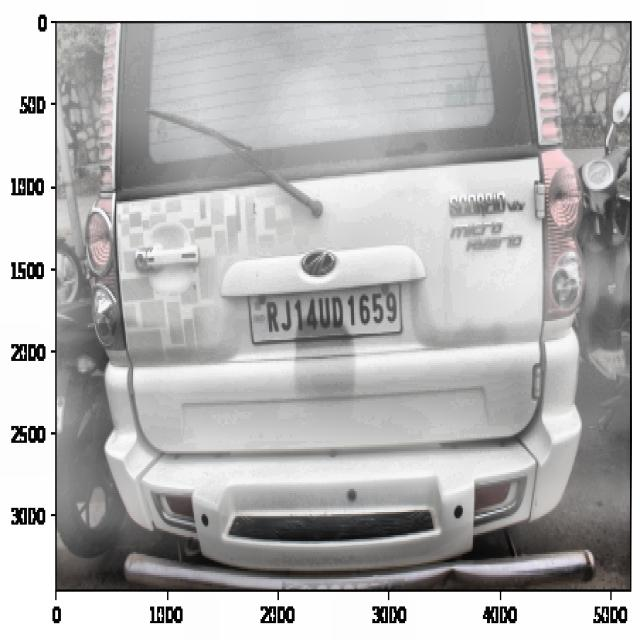license_plate: (258, 284, 401, 335)
